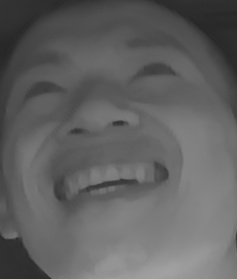eye: (123, 52, 181, 88), (17, 68, 67, 108)
mouth: (49, 149, 172, 213)
